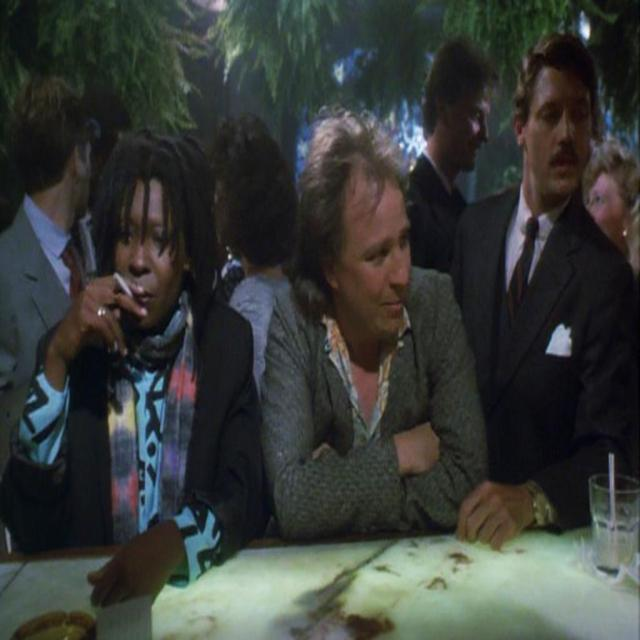smoking: (80, 131, 218, 345)
